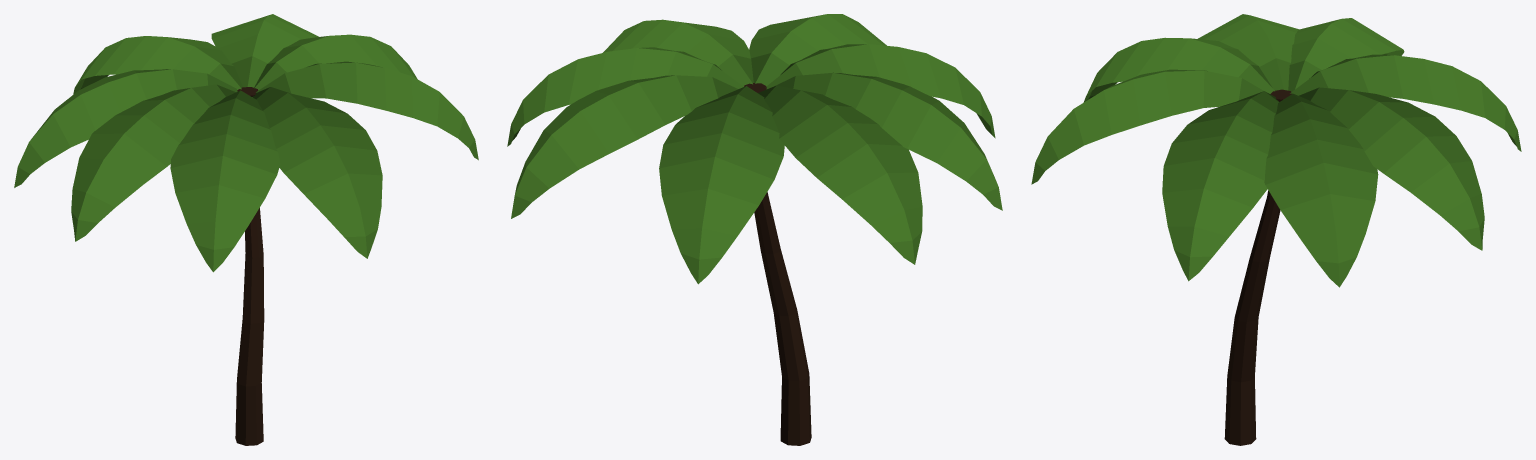
Rendered from Palmera2.fbx.
3 views of the same model, side by side, from view 1: azimuth 30°, elevation 25°; view 2: azimuth 150°, elevation 25°; view 3: azimuth 270°, elevation 25° (orthographic). The views are drawn at different scales.
Parts seen in each view (by area): view 1: Palmera; view 2: Palmera; view 3: Palmera.
Part boxes in pixels (left/top/right/bottom): Palmera: left=14, top=14, right=478, bottom=445; Palmera: left=507, top=14, right=1002, bottom=445; Palmera: left=1031, top=14, right=1521, bottom=445.
Size of the model in its own units: 447 by 380 by 444.
